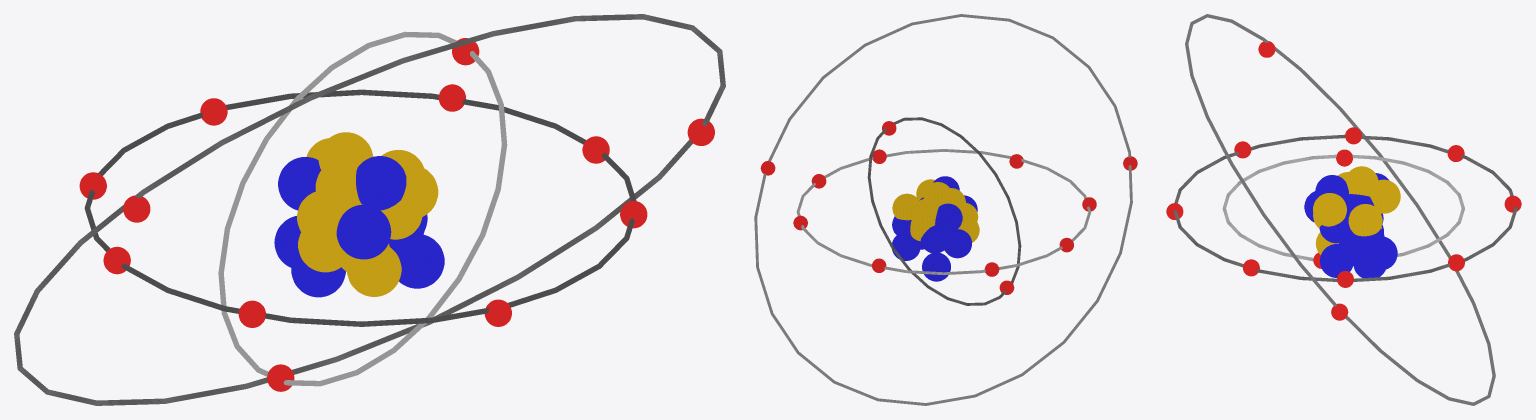
Rendered from magnesiumatomm.fbx.
3 renders of one model, left to right at view 1: azimuth 30°, elevation 25°; view 2: azimuth 150°, elevation 25°; view 3: azimuth 270°, elevation 25°, orthographic. The views are drawn at different scales.
Parts seen in each view (by area): view 1: node_id38, node_id16, node_id48, node_id34, node_id8, node_id66, node_id14, node_id40, node_id6, node_id24, node_id80, node_id76 (+4 smaller); view 2: node_id38, node_id16, node_id48, node_id42, node_id6, node_id74, node_id22, node_id10, node_id50, node_id12, node_id36, node_id40; view 3: node_id38, node_id16, node_id48, node_id76, node_id50, node_id36, node_id66, node_id22, node_id10, node_id72, node_id8, node_id62 (+3 smaller).
Part boxes in pixels (x1,y1,x2,y2): node_id38: [14, 14, 725, 405]; node_id16: [84, 89, 636, 326]; node_id48: [218, 31, 507, 386]; node_id34: [336, 204, 391, 259]; node_id8: [356, 156, 406, 210]; node_id66: [393, 234, 444, 288]; node_id14: [347, 246, 401, 296]; node_id40: [297, 191, 347, 238]; node_id6: [278, 157, 321, 210]; node_id24: [315, 161, 362, 209]; node_id80: [298, 232, 349, 272]; node_id76: [401, 164, 438, 216]; node_id38: [754, 14, 1132, 405]; node_id16: [796, 149, 1091, 274]; node_id48: [867, 117, 1021, 305]; node_id42: [943, 229, 971, 258]; node_id6: [935, 203, 962, 232]; node_id74: [922, 252, 950, 281]; node_id22: [912, 198, 938, 227]; node_id10: [892, 235, 920, 260]; node_id50: [892, 193, 918, 220]; node_id12: [920, 225, 947, 253]; node_id36: [923, 182, 951, 206]; node_id40: [958, 203, 978, 229]; node_id38: [1185, 14, 1495, 405]; node_id16: [1173, 134, 1517, 281]; node_id48: [1222, 154, 1464, 261]; node_id76: [1313, 193, 1346, 226]; node_id50: [1348, 204, 1382, 236]; node_id36: [1345, 166, 1378, 196]; node_id66: [1320, 244, 1353, 277]; node_id22: [1370, 179, 1400, 213]; node_id10: [1353, 250, 1387, 277]; node_id72: [1352, 228, 1384, 255]; node_id8: [1315, 175, 1348, 201]; node_id62: [1319, 214, 1350, 243].
Bounding box in the file's own units: 0.423 × 0.3211 × 0.3085.
